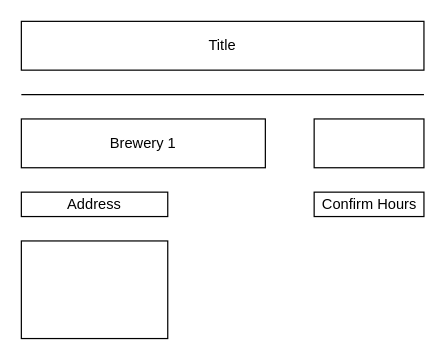
The diagram is 447 pixels wide and 360 high, and some of its shapes have lost their labels. Here are the shapes that lost their labels. From the top down, the box of each, then its label:
(313, 118, 424, 168): Today's Hours
(20, 240, 168, 339): Happy Hour menu
